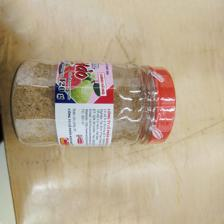Hao_hao: (11, 59, 176, 149)
